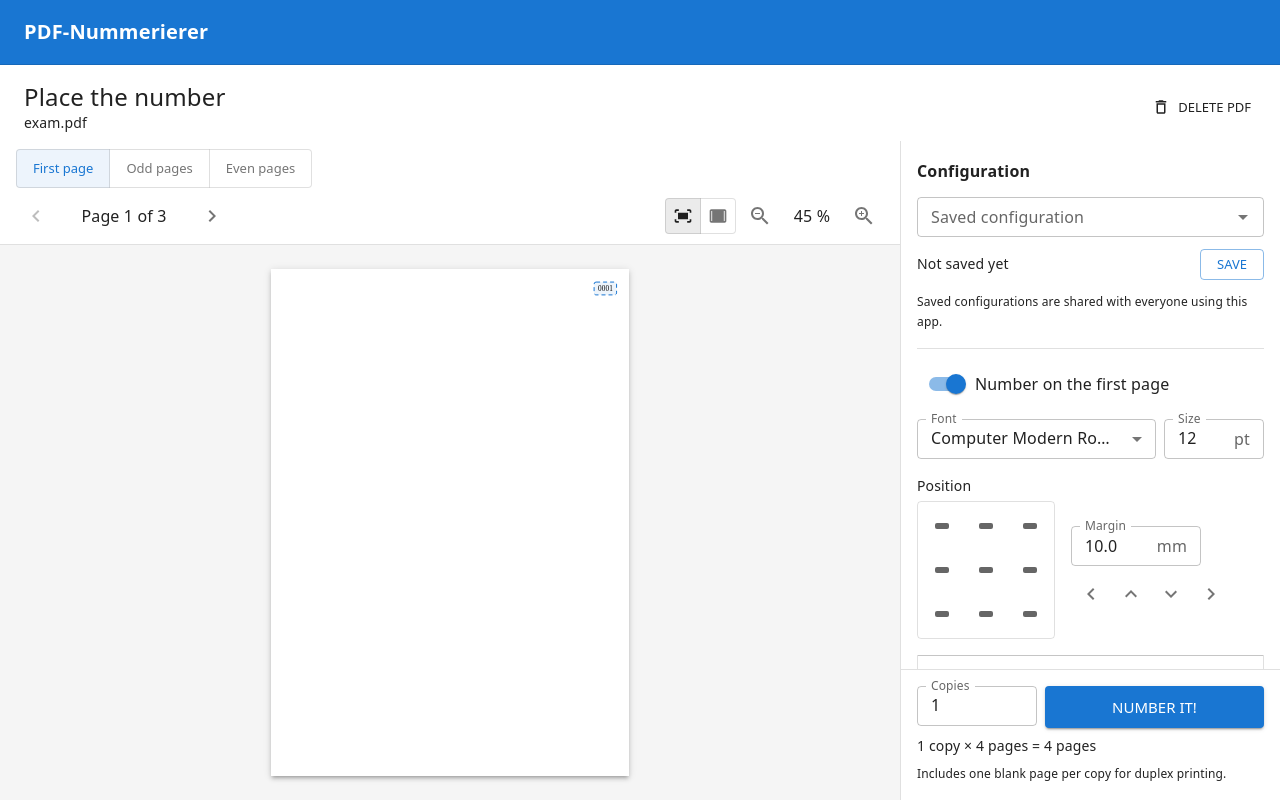
Test: saved configurations › saves under a new name as a new configuration
Expected: the text "exam.pdf" is shown, [24,113,87,132]
Expected: the dropdown labelled "Saved configuration" is enabled, [923,203,1225,231]
Click the button "Save": (1232, 264) [1200,249,1264,280]
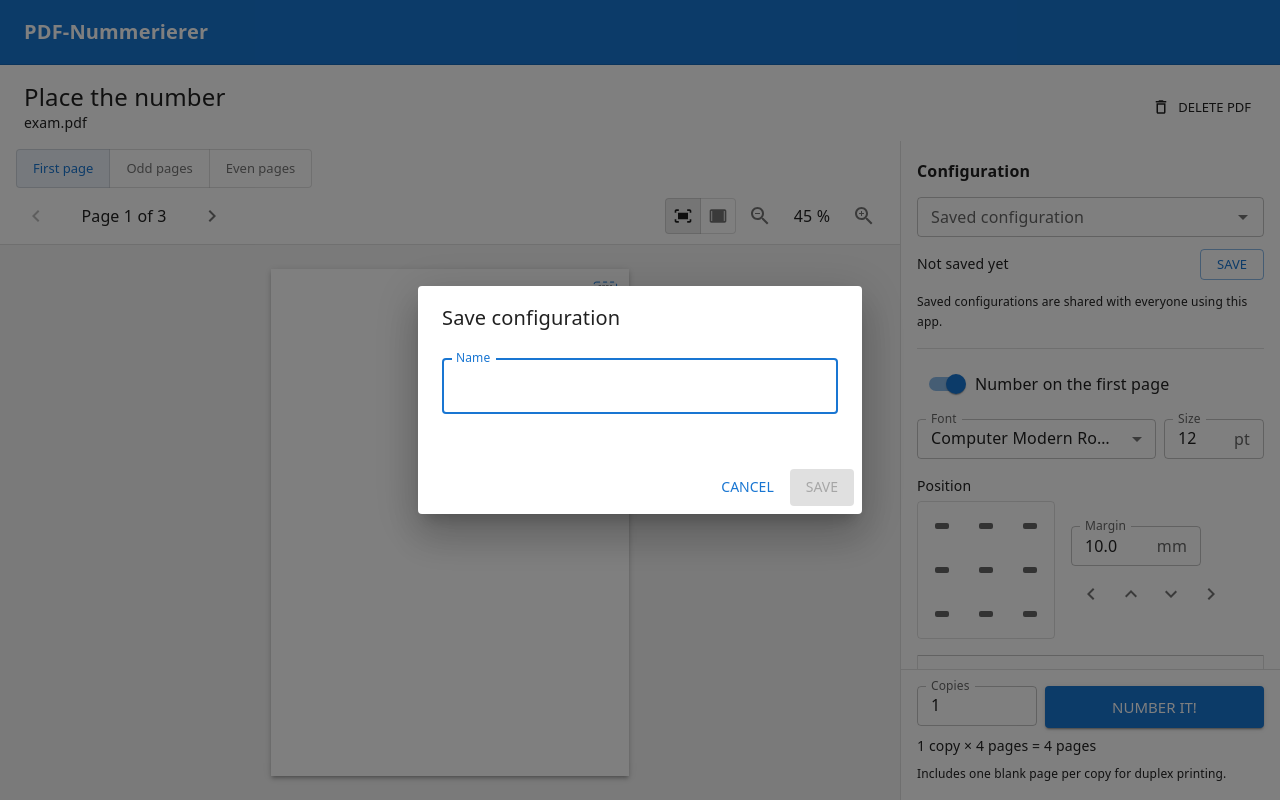
In the field labelled "Name": (640, 386) [442,358,838,414], type "Databases exam"
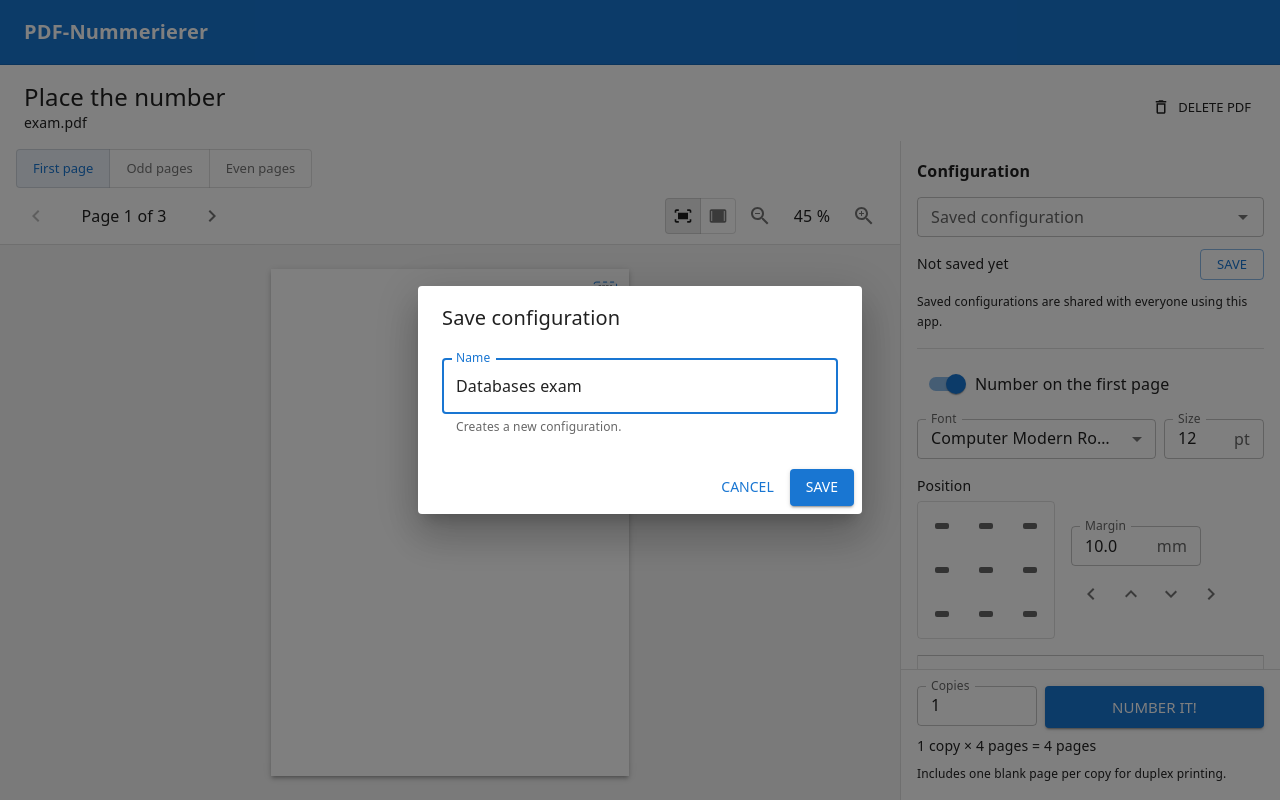
Expected: the text "Creates a new configuration." is shown, [456,418,622,435]
Click the button "Save": (822, 487) [790,469,854,506]
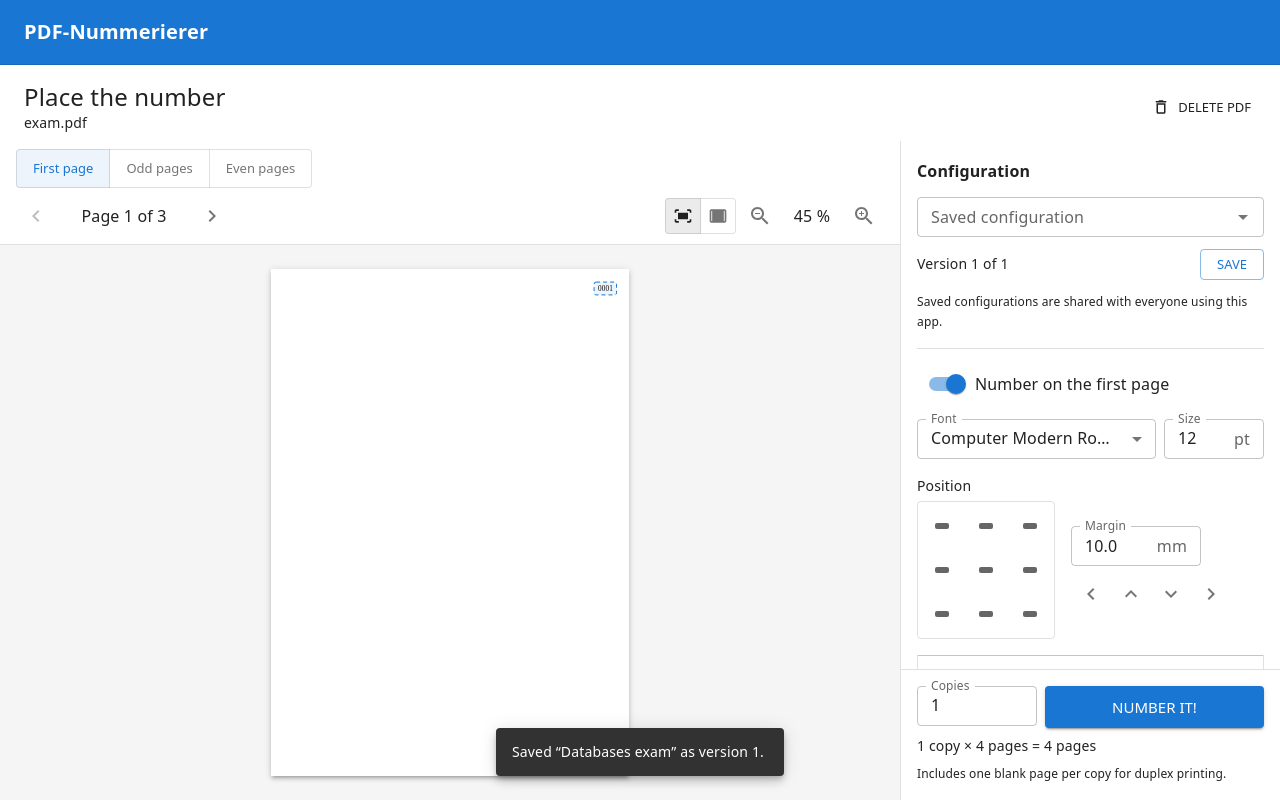
Expected: the dialog is gone
